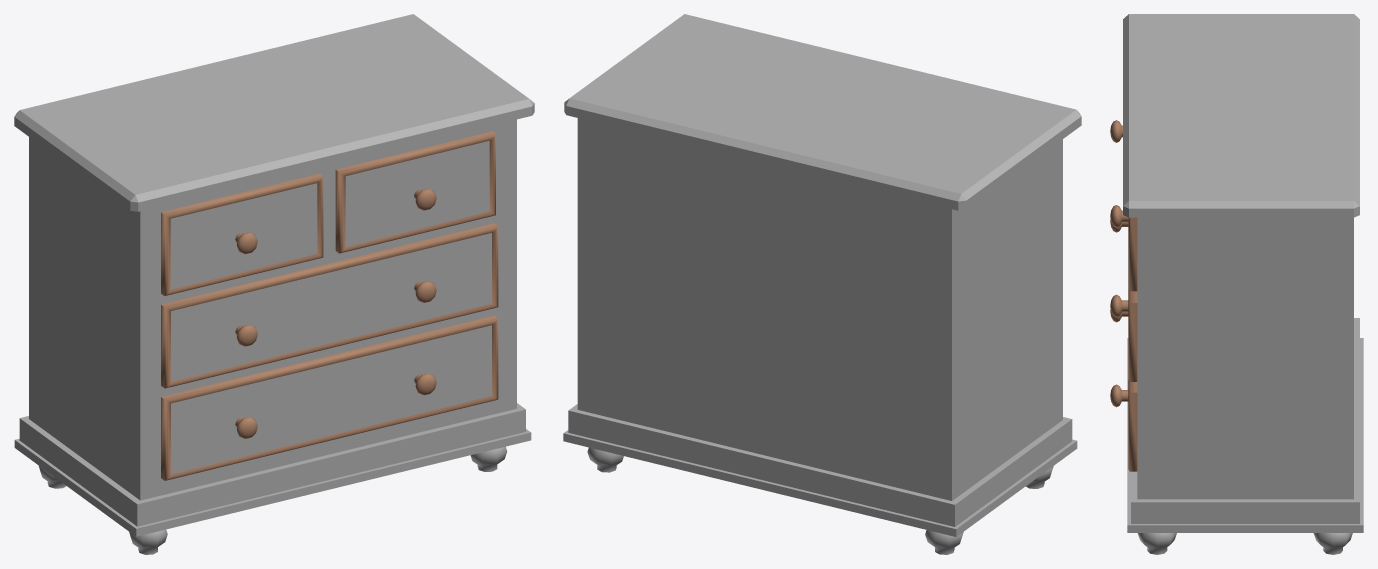
The model's file is commode.fbx.
The picture shows the model from 3 angles, left to right: view 1: azimuth 30°, elevation 25°; view 2: azimuth 150°, elevation 25°; view 3: azimuth 270°, elevation 25°; orthographic projection. The views are drawn at different scales.
Parts seen in each view (by area): view 1: commode; view 2: commode; view 3: commode.
Boxes of the visible parts, x1,y1,x2,y2 form: commode: (14, 14, 534, 554); commode: (563, 14, 1081, 554); commode: (1110, 14, 1363, 554).
Bounding box in the file's own units: 16.74 × 14.77 × 9.35.
